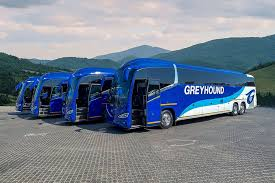bus: (108, 57, 258, 132), (63, 65, 117, 125), (32, 70, 73, 118), (15, 76, 39, 111)
